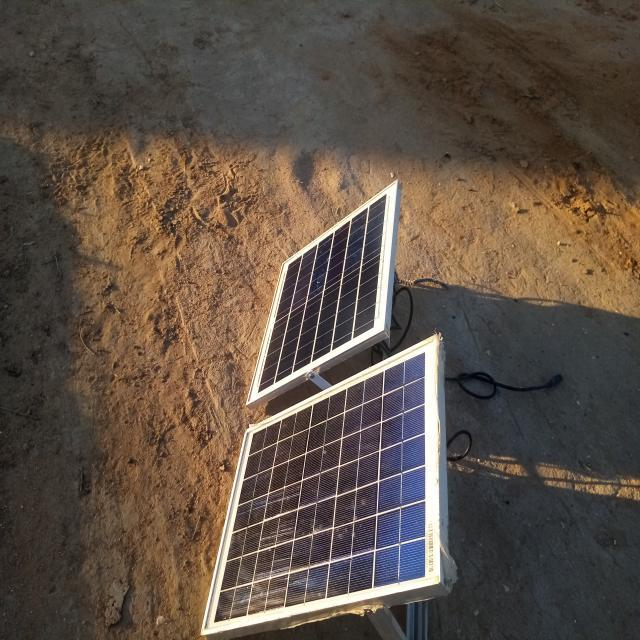no faulty: (202, 337, 441, 631), (246, 181, 398, 405)
